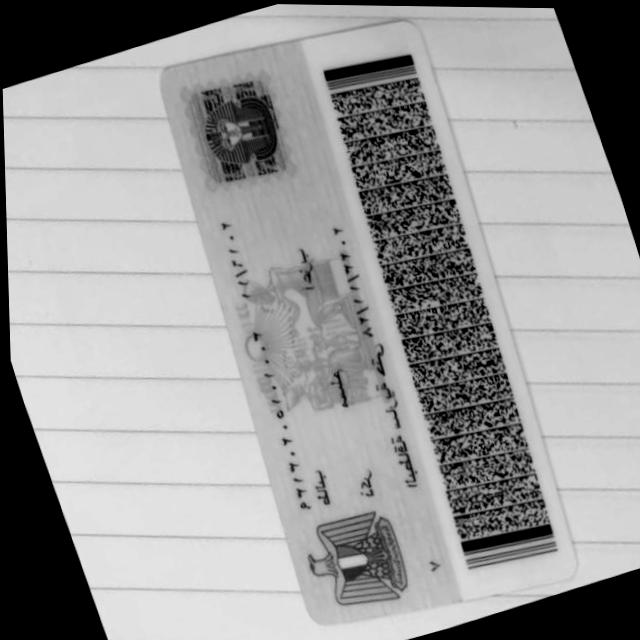back: (159, 21, 573, 624)
